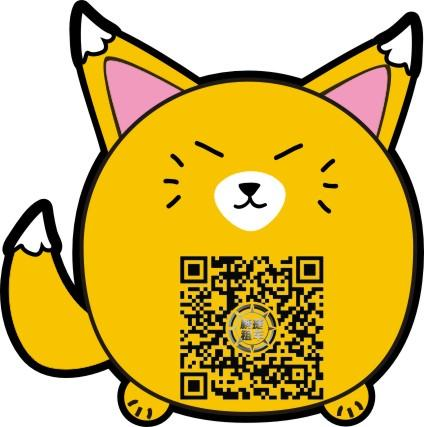QRCode: (174, 247, 326, 403)
